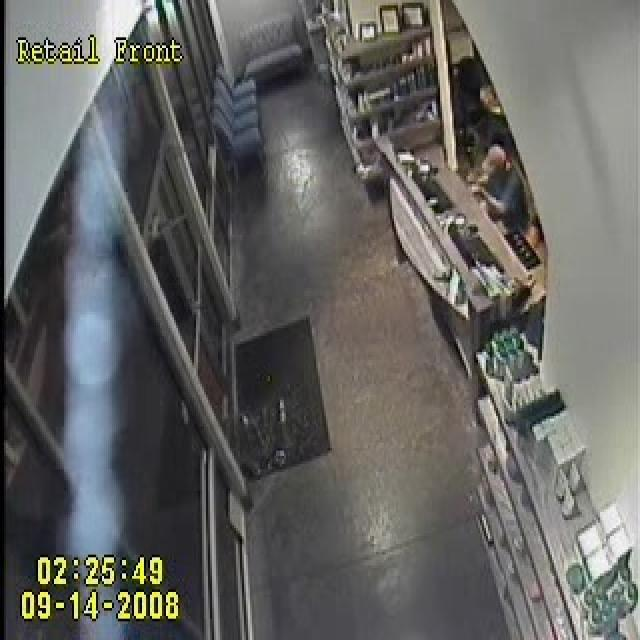thief: (466, 134, 527, 252)
